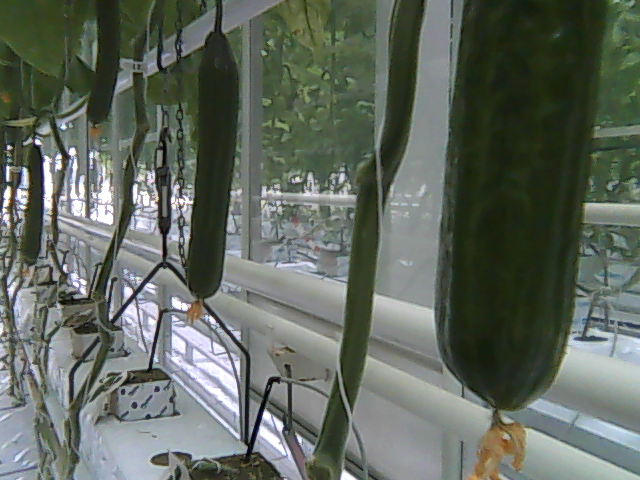concombre: (430, 1, 614, 477), (183, 26, 244, 323)
